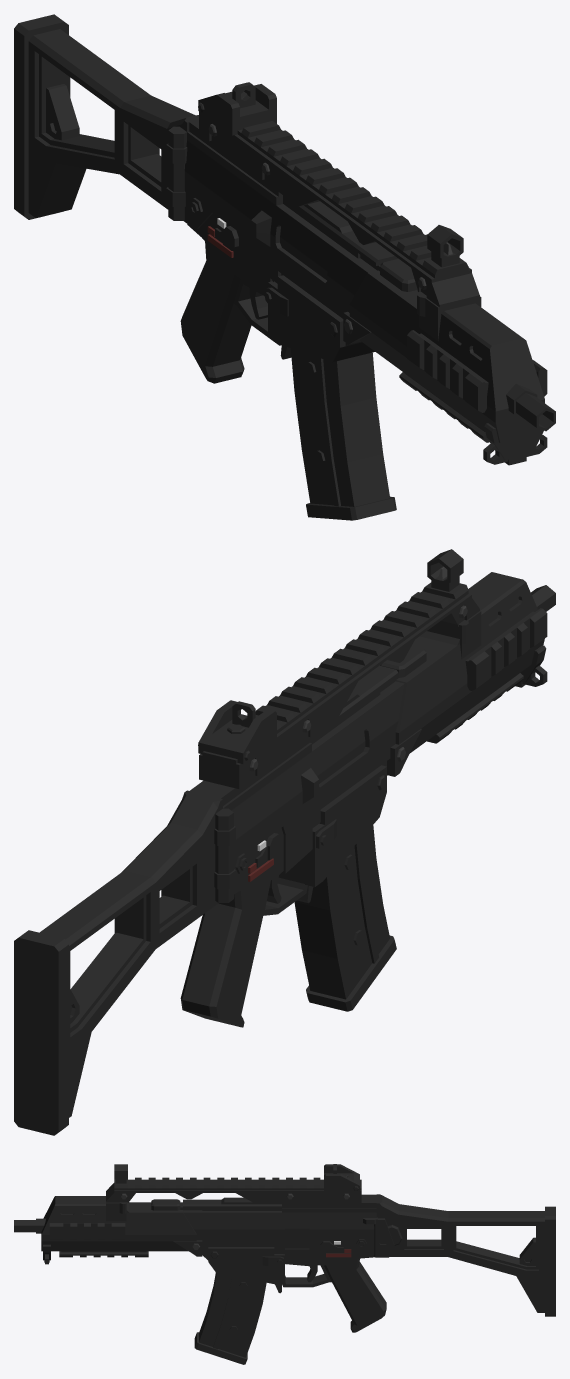
The picture shows the model from 3 angles, top to bottom: view 1: azimuth 30°, elevation 25°; view 2: azimuth 150°, elevation 25°; view 3: azimuth 270°, elevation 25°; orthographic projection. The views are drawn at different scales.
Parts seen in each view (by area): view 1: AR_D_Stock, AR_D_Receiver_Up, AR_D_BarrelGuard, AR_D_Mag, AR_D_Rail, AR_D_Receiver_Down, AR_D_Sight, AR_D_BarrelGuard_Rail, AR_D_Bolt, AR_D_Barrel, AR_D_Bolt_Part; view 2: AR_D_Stock, AR_D_Receiver_Up, AR_D_BarrelGuard, AR_D_Rail, AR_D_Mag, AR_D_Receiver_Down, AR_D_Sight, AR_D_BarrelGuard_Rail, AR_D_Bolt, AR_D_Bolt_Part; view 3: AR_D_Receiver_Up, AR_D_Stock, AR_D_BarrelGuard, AR_D_Rail, AR_D_Mag, AR_D_Receiver_Down, AR_D_BarrelGuard_Rail, AR_D_Sight, AR_D_Bolt, AR_D_Bolt_Part, AR_D_Barrel.
Part boxes in pixels (box(x1,y1,x2,y2)): AR_D_Stock: box(14, 14, 198, 223); AR_D_Receiver_Up: box(184, 120, 376, 362); AR_D_BarrelGuard: box(343, 270, 547, 465); AR_D_Mag: box(290, 348, 396, 520); AR_D_Rail: box(199, 111, 479, 307); AR_D_Receiver_Down: box(180, 213, 281, 383); AR_D_Sight: box(198, 82, 463, 267); AR_D_BarrelGuard_Rail: box(407, 330, 547, 412); AR_D_Bolt: box(283, 195, 397, 265); AR_D_Barrel: box(506, 383, 555, 431); AR_D_Bolt_Part: box(360, 255, 417, 291); AR_D_Stock: box(14, 790, 235, 1135); AR_D_Receiver_Up: box(190, 681, 404, 903); AR_D_BarrelGuard: box(387, 572, 547, 776); AR_D_Rail: box(199, 582, 479, 789); AR_D_Mag: box(294, 825, 396, 1011); AR_D_Receiver_Down: box(180, 827, 307, 1027); AR_D_Sight: box(198, 549, 463, 763); AR_D_BarrelGuard_Rail: box(465, 608, 547, 690); AR_D_Bolt: box(310, 665, 398, 744); AR_D_Bolt_Part: box(380, 645, 426, 692); AR_D_Receiver_Up: box(183, 1194, 402, 1293); AR_D_Stock: box(376, 1194, 555, 1316); AR_D_BarrelGuard: box(41, 1196, 202, 1264); AR_D_Rail: box(106, 1177, 361, 1203); AR_D_Mag: box(194, 1246, 268, 1364); AR_D_Receiver_Down: box(282, 1240, 386, 1332); AR_D_BarrelGuard_Rail: box(49, 1223, 125, 1239); AR_D_Sight: box(114, 1164, 359, 1191); AR_D_Bolt: box(183, 1197, 281, 1210); AR_D_Bolt_Part: box(151, 1199, 202, 1210); AR_D_Barrel: box(14, 1218, 45, 1233).
Bounding box in the file's own units: 0.0775 × 0.3924 × 0.9861.
